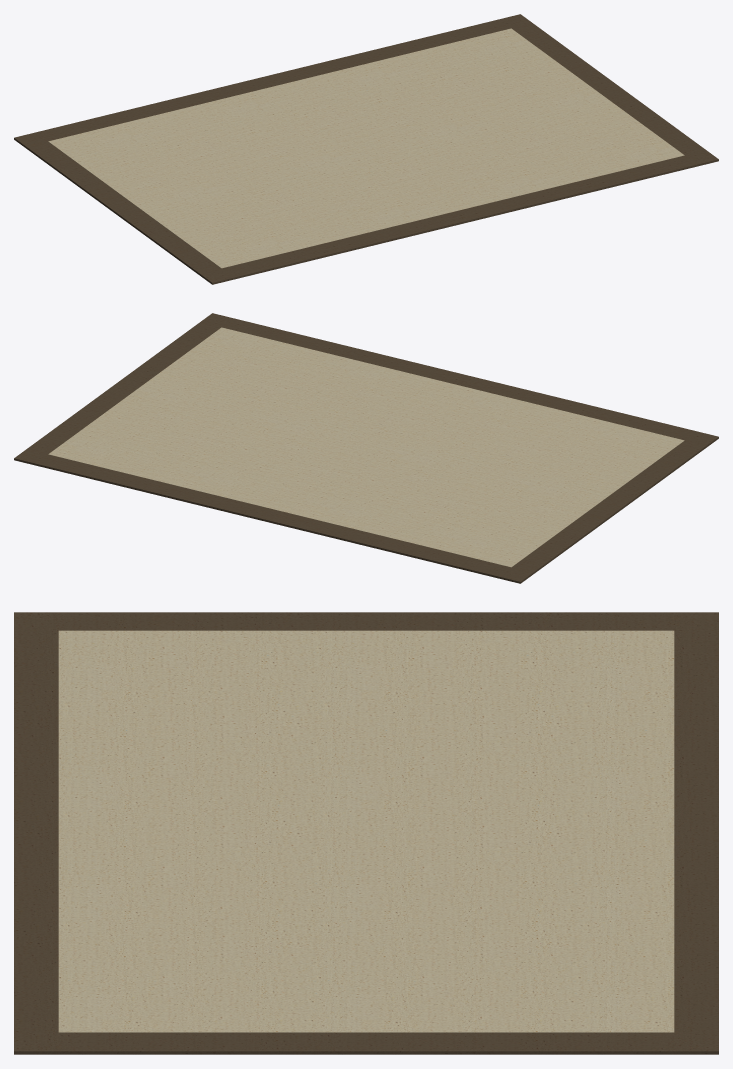
Rendered from h_rug0.glb.
3 views of the same model, one above another, from view 1: azimuth 30°, elevation 25°; view 2: azimuth 150°, elevation 25°; view 3: azimuth 270°, elevation 25° (orthographic). The views are drawn at different scales.
Parts seen in each view (by area): view 1: rug, rugb; view 2: rug, rugb; view 3: rug, rugb.
Boxes of the visible parts, x1,y1,x2,y2 form: rug: (48,28,684,268); rugb: (14,14,718,284); rug: (48,327,684,567); rugb: (14,313,718,583); rug: (58,630,674,1032); rugb: (14,612,718,1054).
Size of the model in its own units: 2.48 by 0.00968 by 1.68.
Materials: 2 (2 with a texture image).
